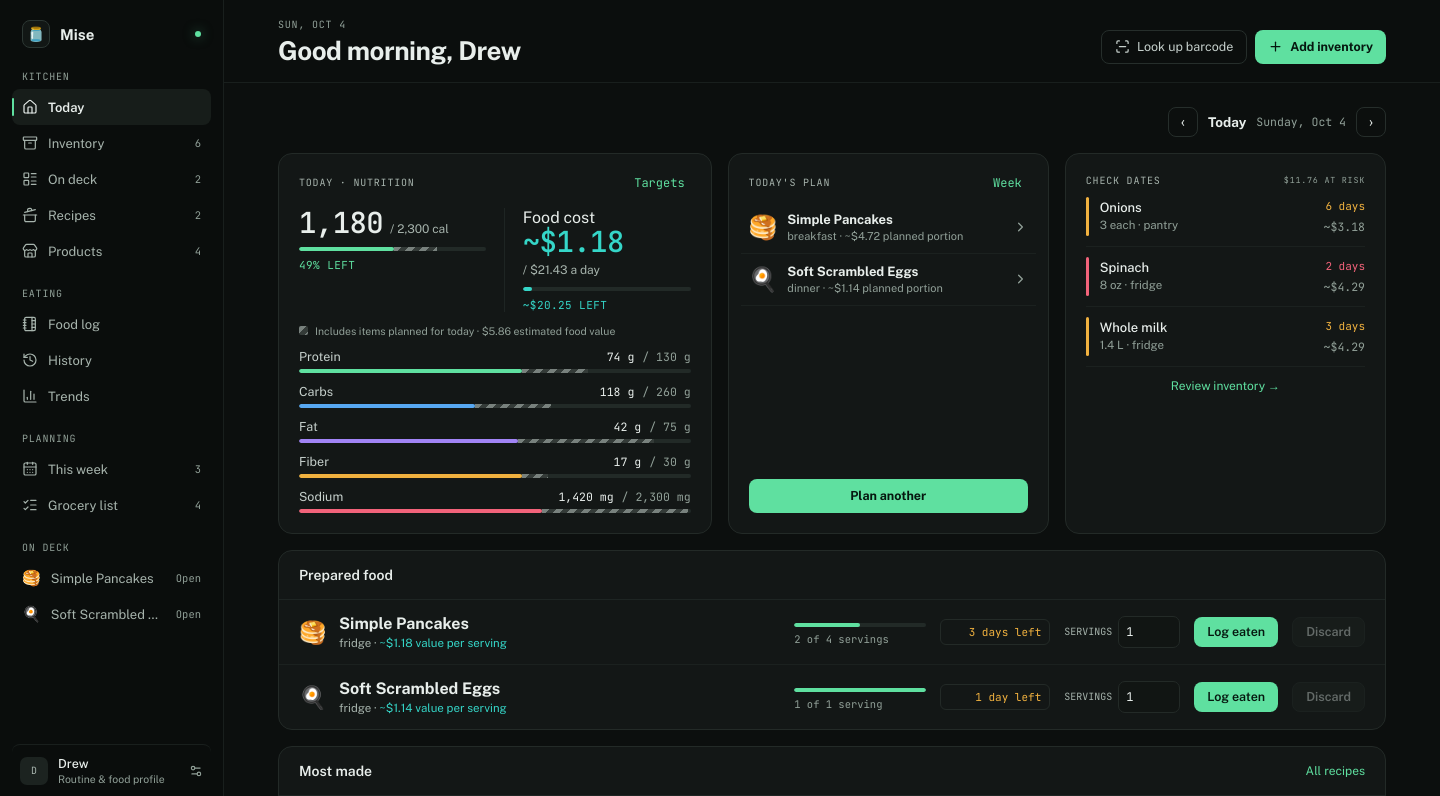
it: Pantry web UI › corrects only the chosen consumption in a grouped food log
The width and height of the screenshot is (1440, 796).
Click the button "Food log" at (112, 324), box [12,306,211,342]
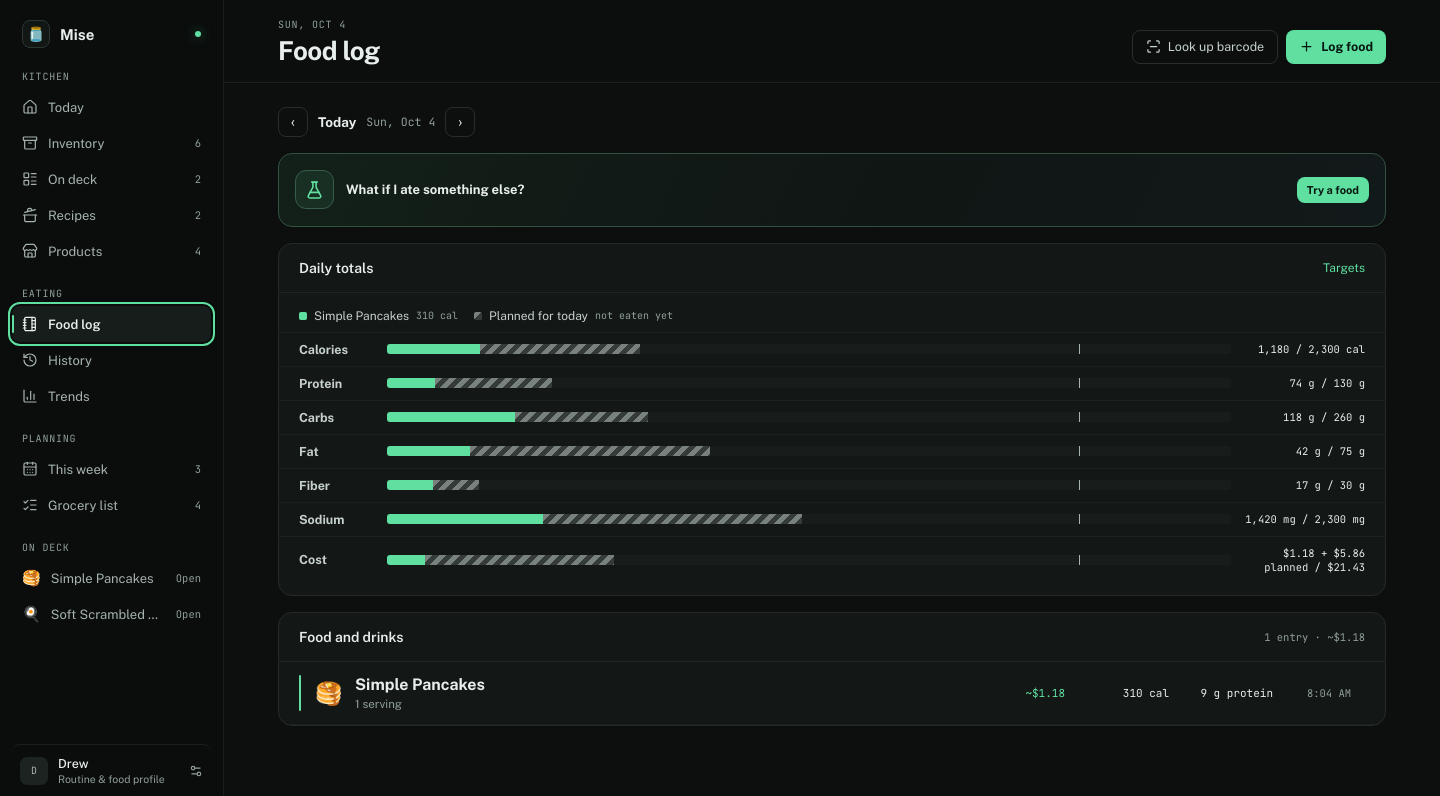
Click the button with aria-label "View Simple Pancakes consumption event" at (420, 684), box [315,675,1351,711]
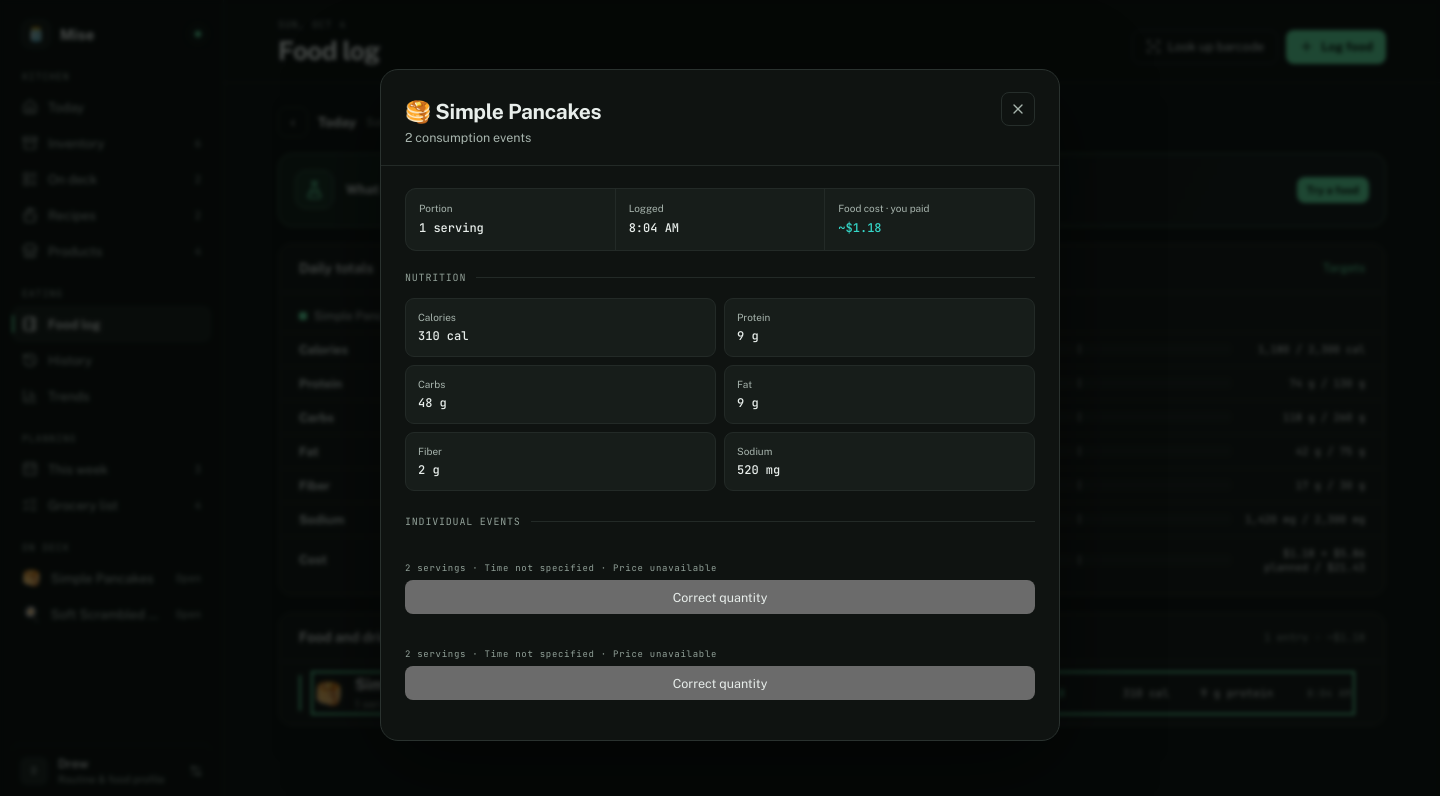
Click the button with aria-label "Correct quantity for consumption 2" at (720, 683), box [405,666,1035,700]
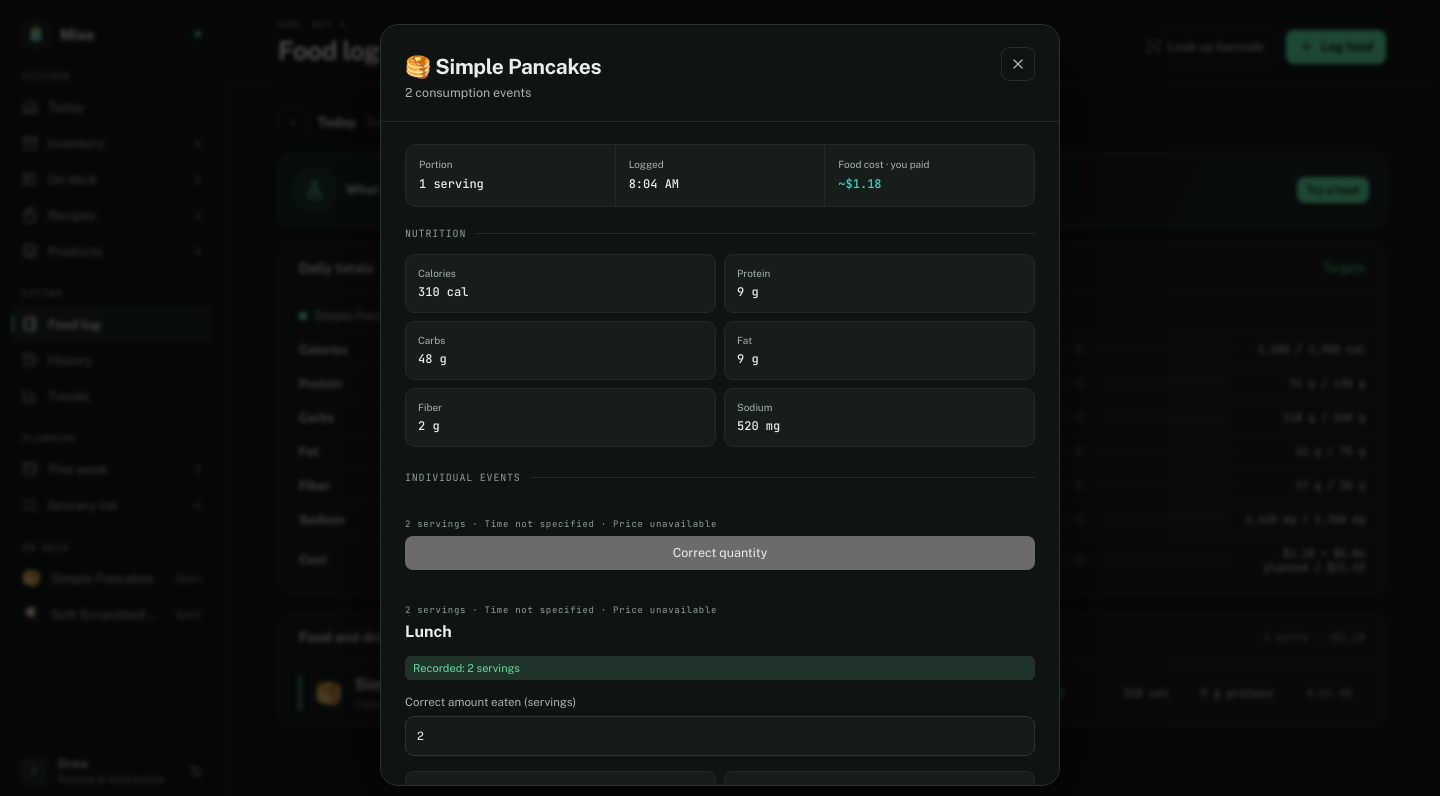
Result: the number field labelled "Correct amount eaten (servings)" is enabled
Replace the text in the number field labelled "Correct amount eaten (servings)" with "1" at (720, 736), box [405,716,1035,756]
(page scrolled)
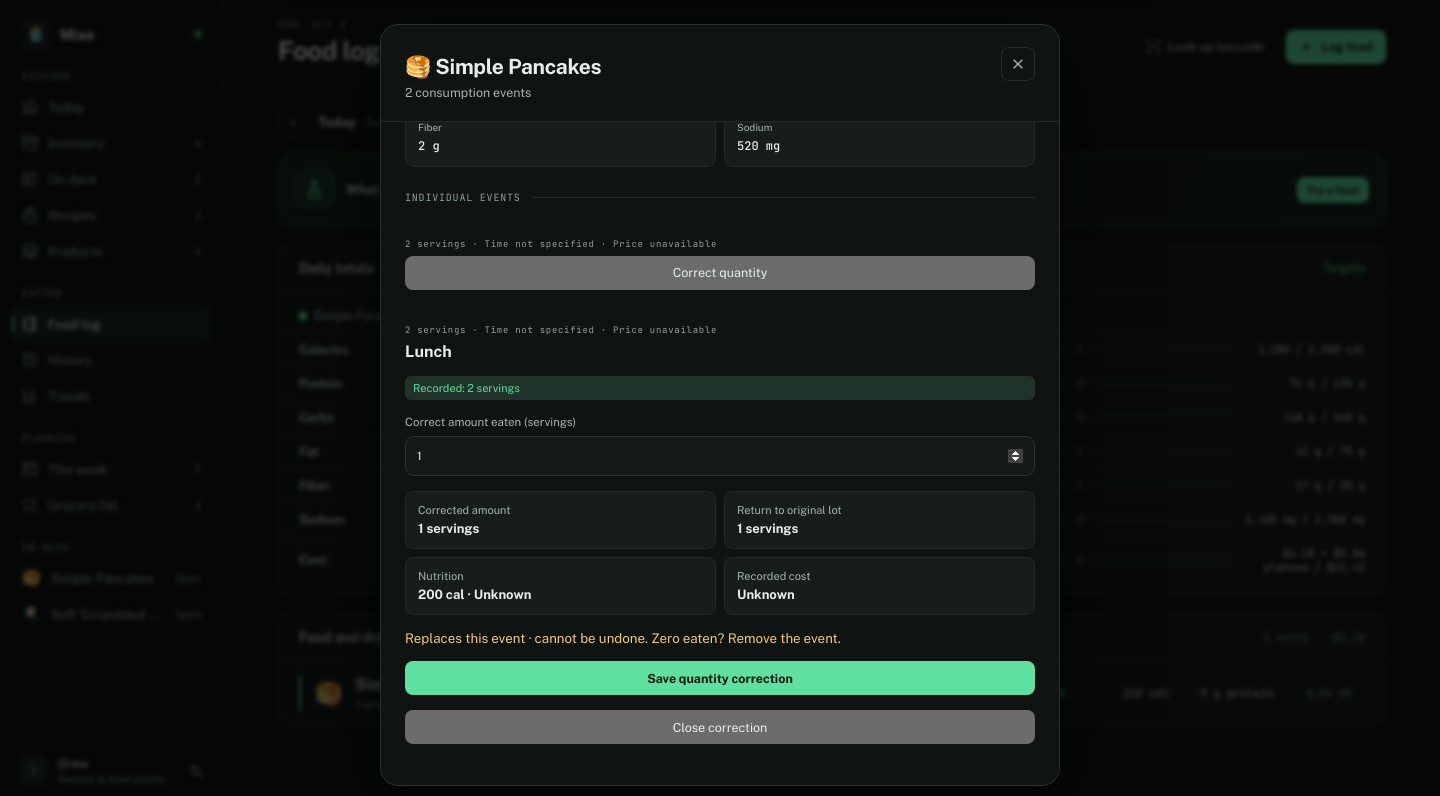
Click the button "Save quantity correction" at (720, 678), box [405,661,1035,695]
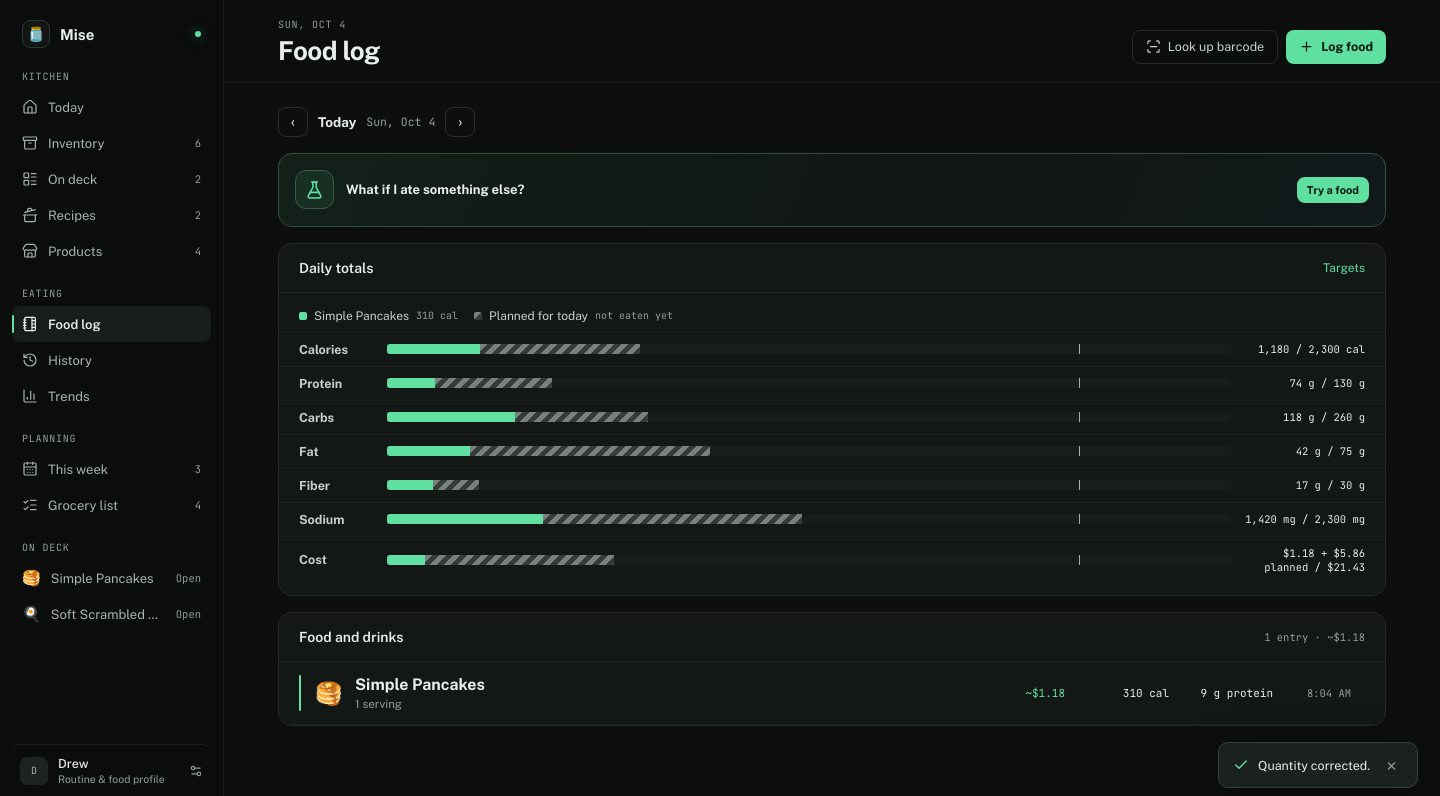
Result: the dialog is gone
